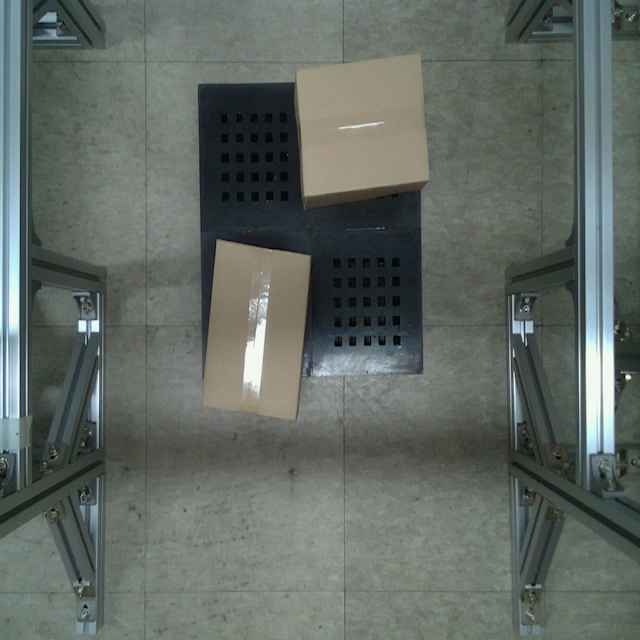box: (291, 44, 434, 205), (202, 235, 313, 421)
